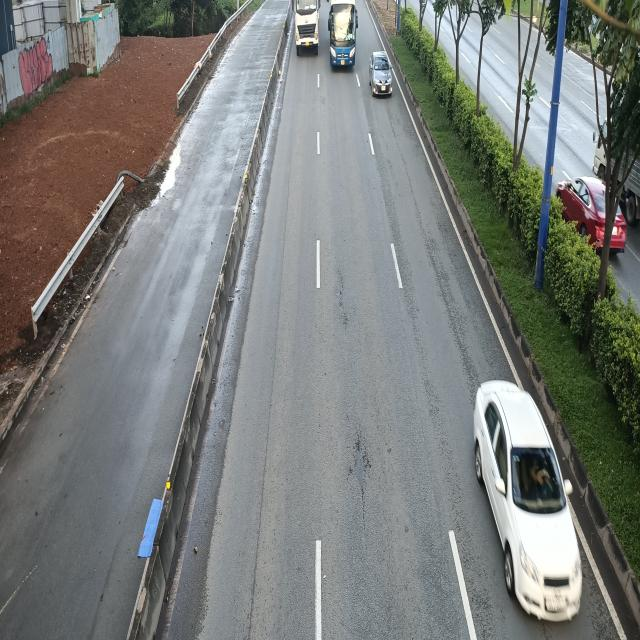car: (474, 378, 584, 624), (369, 50, 394, 97)
coach: (328, 0, 360, 67)
container: (292, 0, 320, 56)
